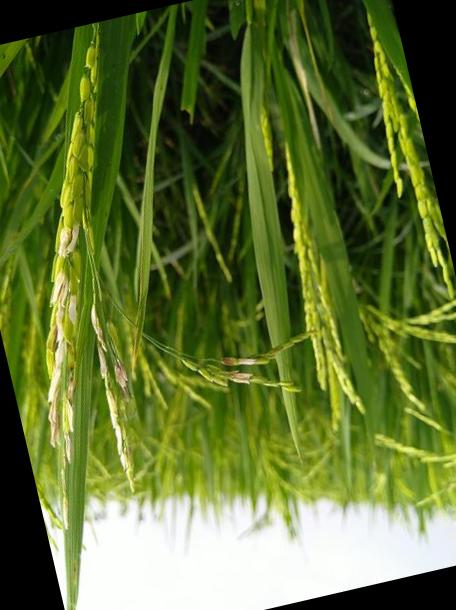Leaf Blight: (285, 9, 322, 143), (131, 311, 143, 370)
Panicle Blight: (90, 305, 134, 492), (47, 303, 75, 446), (54, 216, 80, 260), (51, 267, 69, 306), (66, 292, 80, 325), (224, 370, 253, 385), (220, 355, 259, 366)
